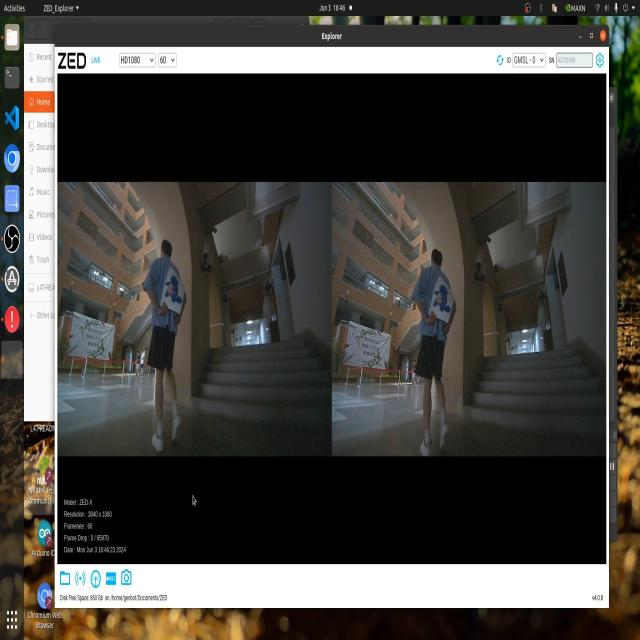blue: (427, 276, 450, 321), (164, 266, 184, 314)
